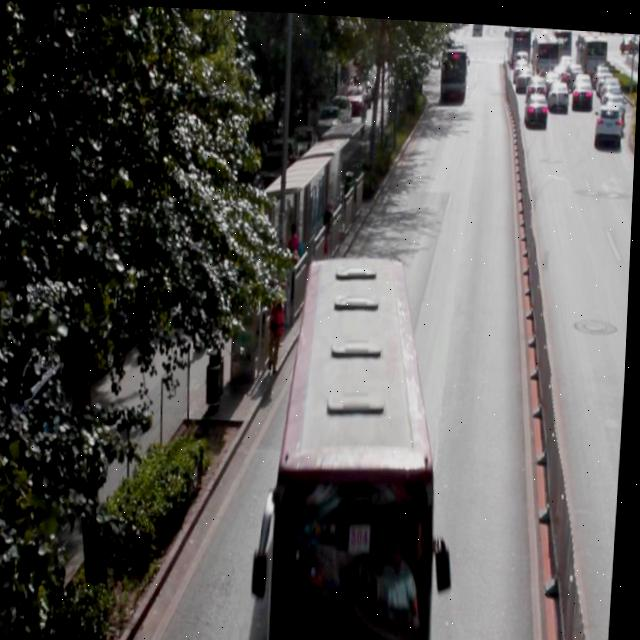van: (270, 249, 456, 640)
